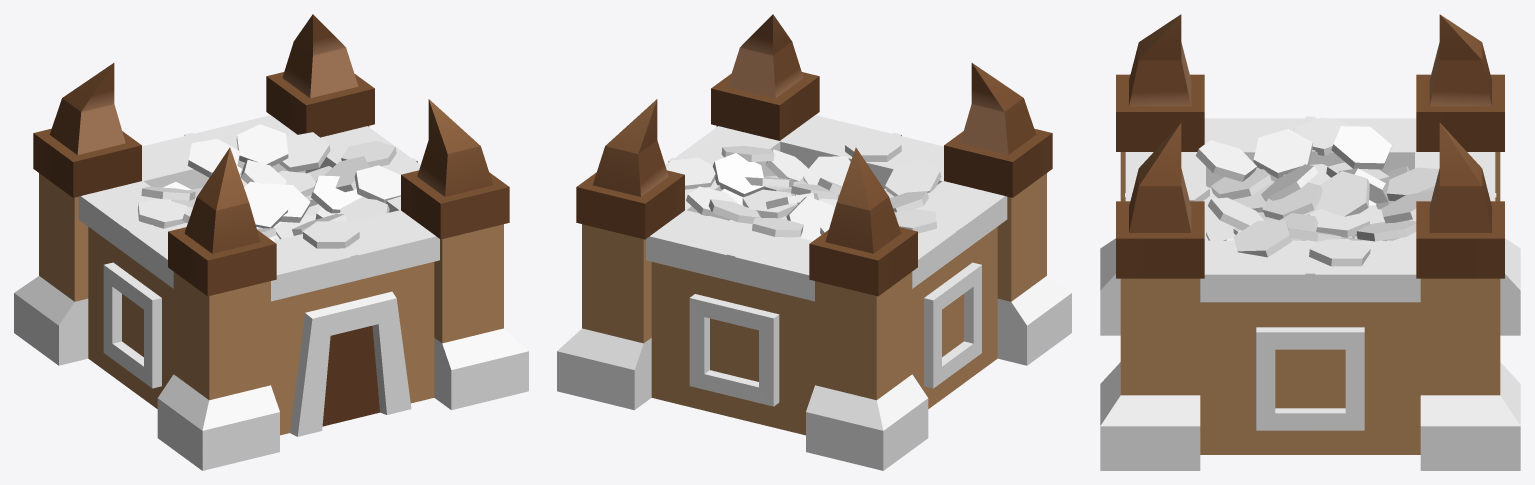
The model's file is Building_GoldMine_Lv2.fbx.
3 renders of one model, left to right at view 1: azimuth 30°, elevation 25°; view 2: azimuth 150°, elevation 25°; view 3: azimuth 270°, elevation 25°, orthographic. The views are drawn at different scales.
Visible parts, largest first — view 1: Building_GoldMine_Lv2, gold_3, gold_2; view 2: Building_GoldMine_Lv2, gold_3; view 3: Building_GoldMine_Lv2, gold_3, gold_2.
Part boxes in pixels (x1,y1,x2,y2): Building_GoldMine_Lv2: (14,14,528,470); gold_3: (137,124,400,248); gold_2: (273,207,339,239); Building_GoldMine_Lv2: (557,14,1071,470); gold_3: (666,134,941,240); Building_GoldMine_Lv2: (1100,14,1520,470); gold_3: (1183,117,1438,266); gold_2: (1232,180,1381,238).
Size of the model in its own units: 0.7208 by 0.5942 by 0.7208.
